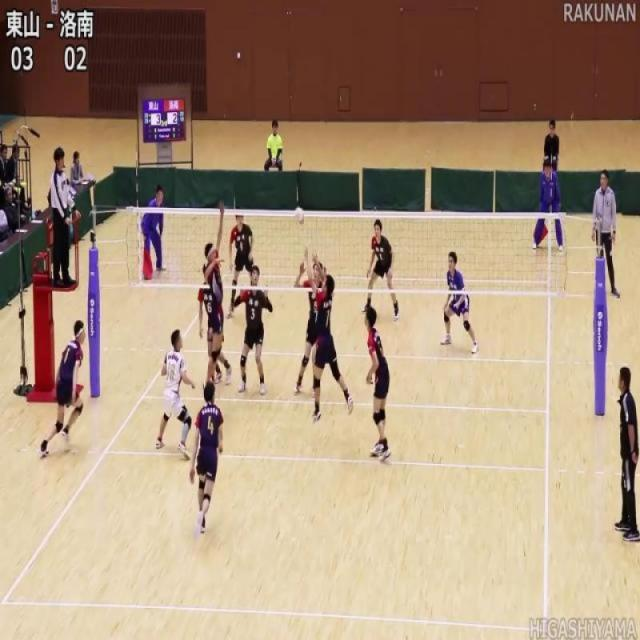volleyball: (293, 204, 305, 228)
